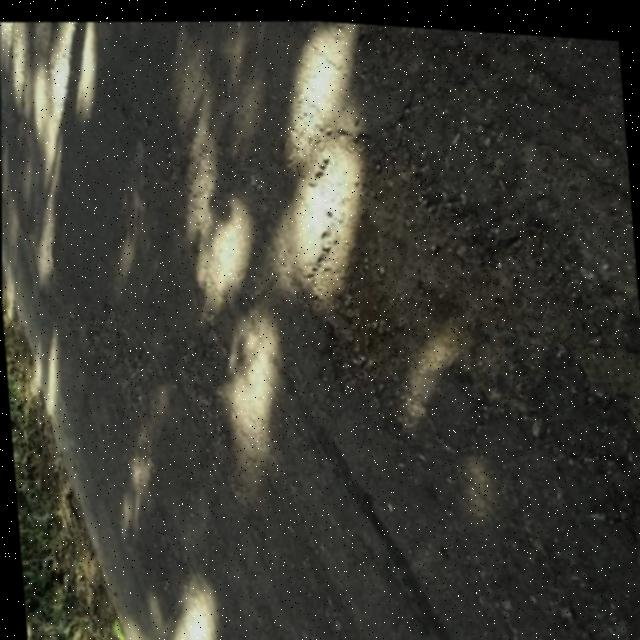Pothole: (284, 108, 588, 417)
